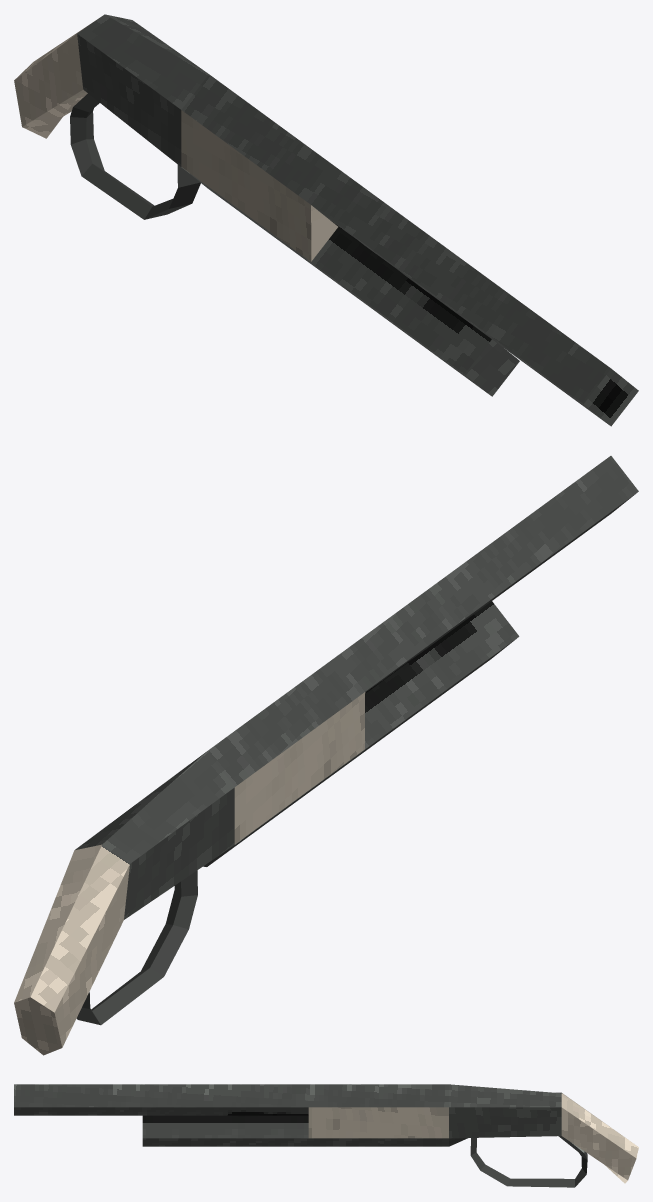
File: shotgun.glb
The picture shows the model from 3 angles, top to bottom: view 1: azimuth 30°, elevation 25°; view 2: azimuth 150°, elevation 25°; view 3: azimuth 270°, elevation 25°; orthographic projection. The views are drawn at different scales.
Visible parts, largest first — view 1: Cube; view 2: Cube; view 3: Cube.
Part boxes in pixels (x1,y1,x2,y2): Cube: (14,14,638,426); Cube: (14,456,638,1055); Cube: (14,1084,638,1187).
Bounding box in the file's own units: 0.7081 × 2.25 × 12.75.
1 material, 1 textured.
